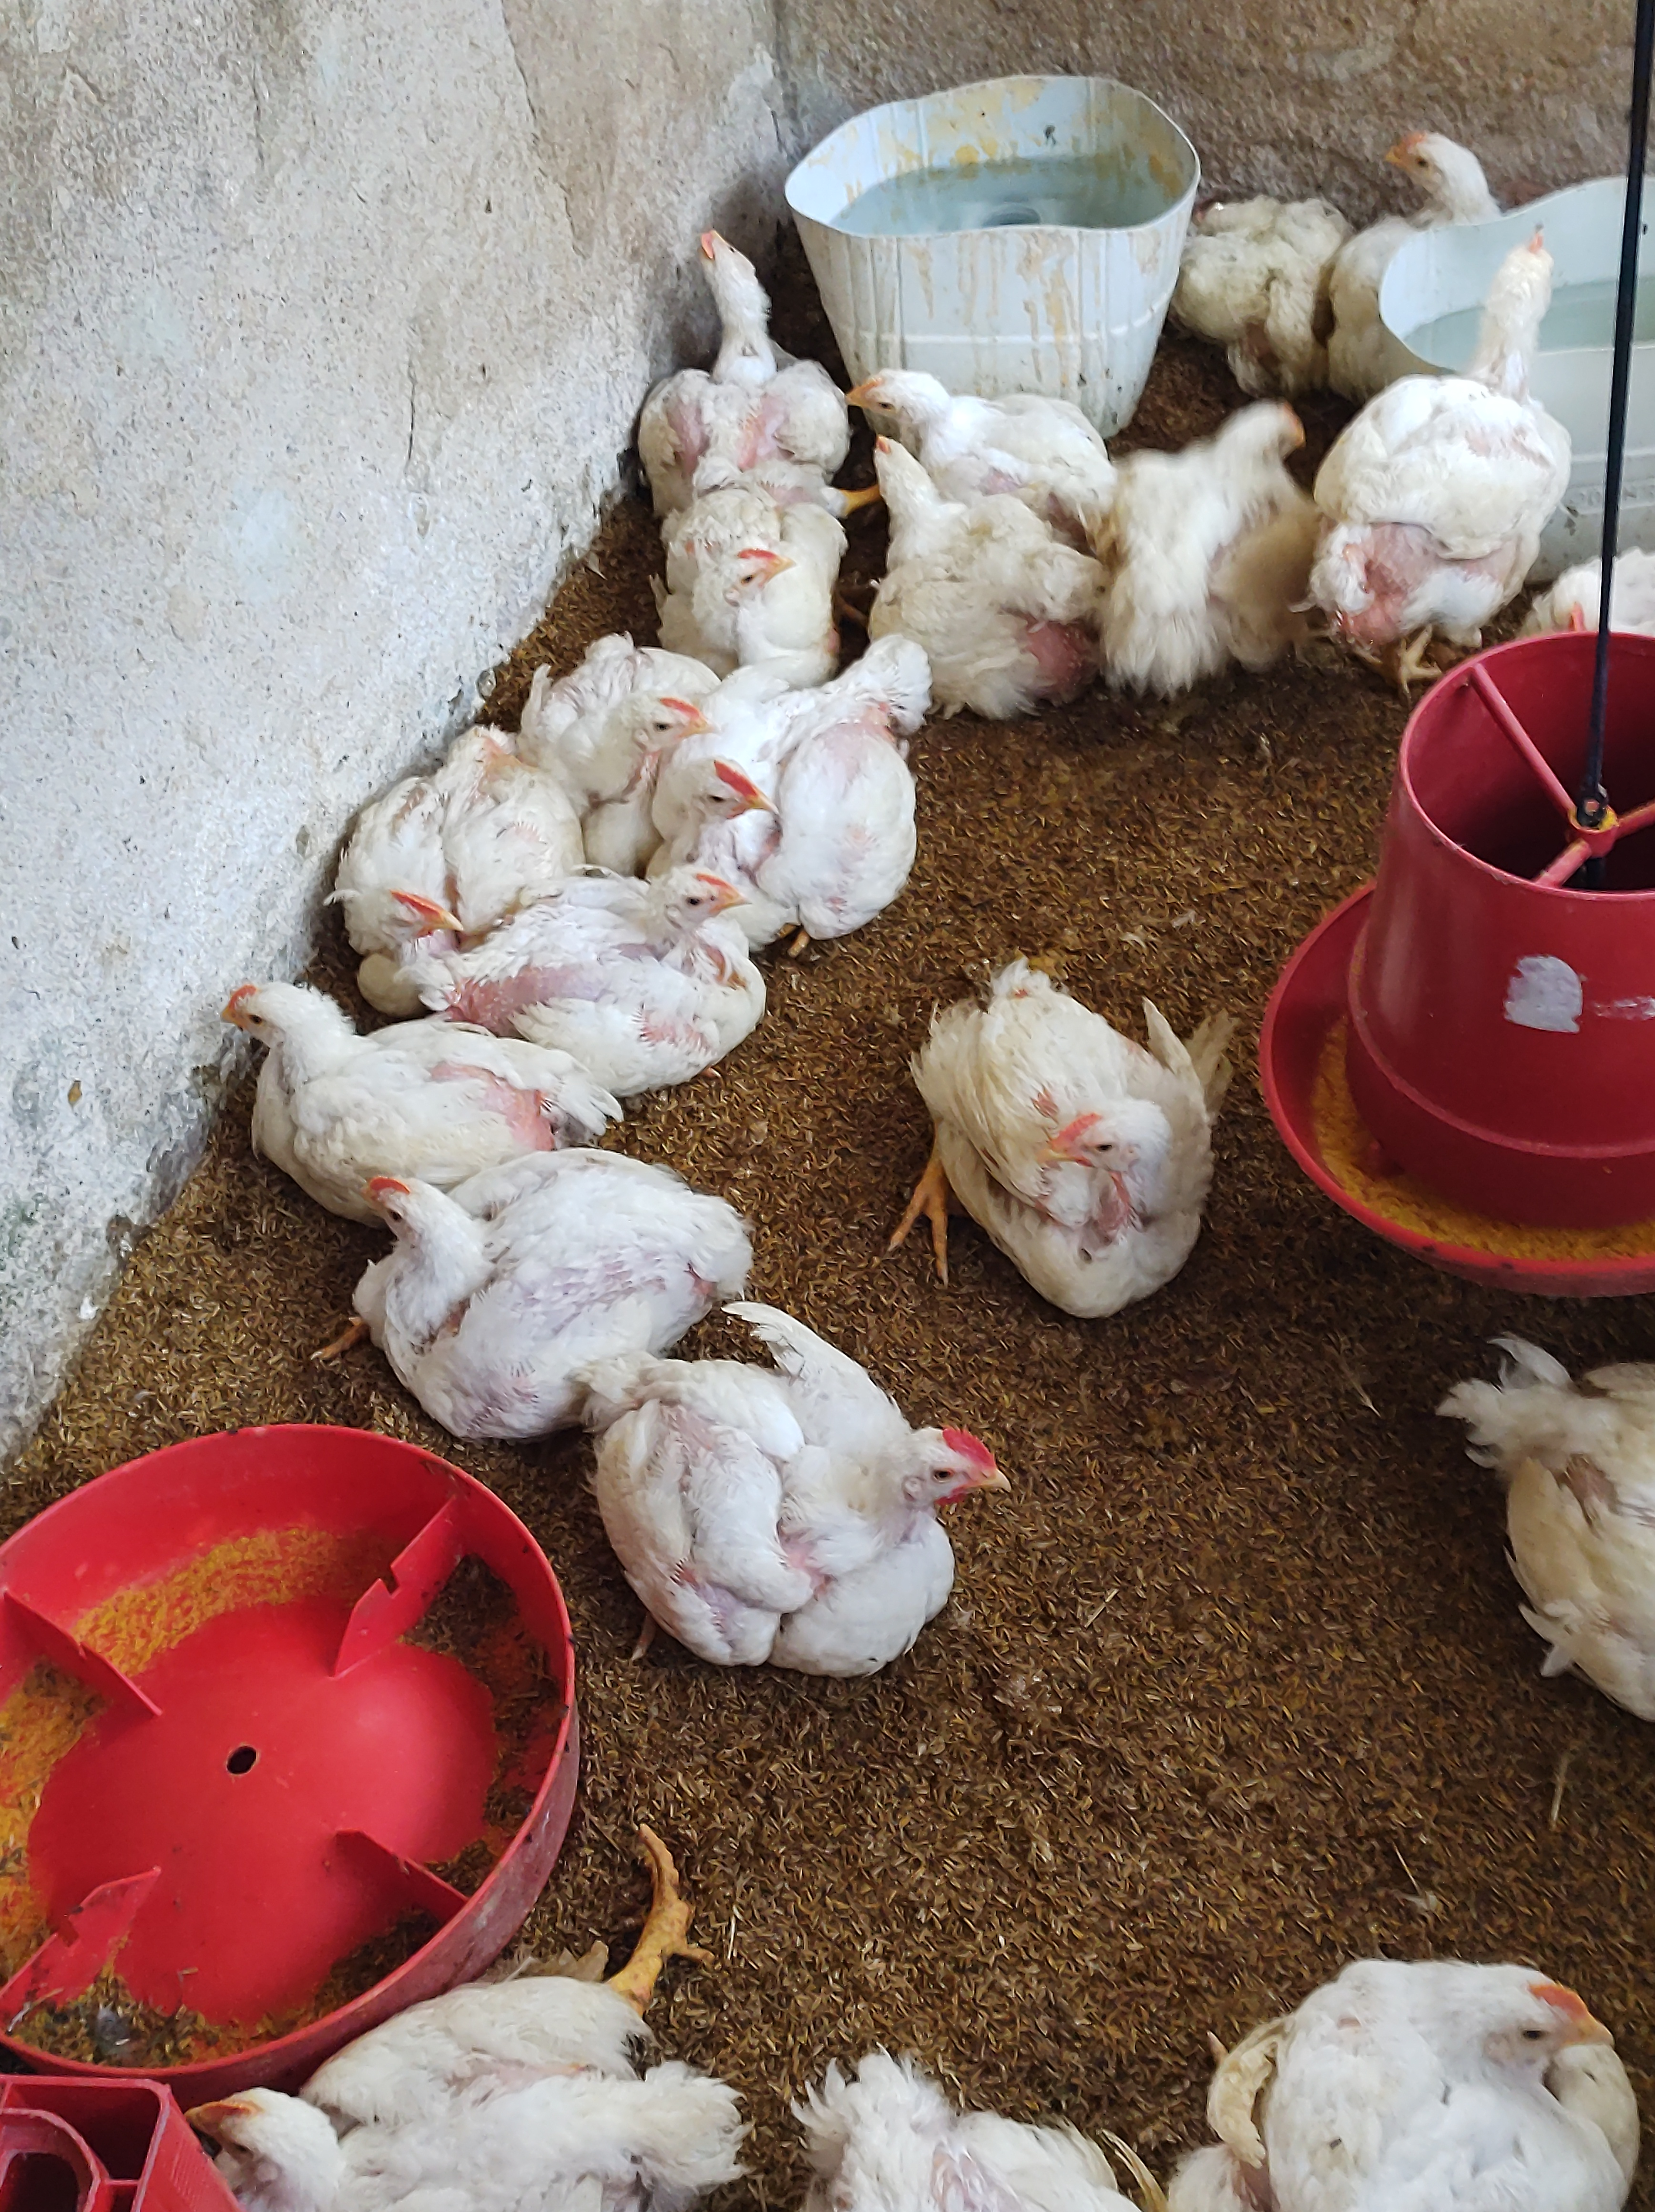Pollos: (148, 1897, 779, 2212), (614, 1276, 1012, 1737), (909, 946, 1245, 1339), (1318, 233, 1599, 694), (353, 1120, 754, 1416), (1274, 1906, 1655, 2212), (177, 941, 605, 1203), (1462, 1315, 1655, 1732), (861, 417, 1080, 762), (445, 859, 770, 1068), (643, 703, 954, 916), (1128, 407, 1372, 670), (289, 723, 570, 941), (614, 190, 841, 456), (808, 2028, 1137, 2212), (1095, 150, 1342, 358), (852, 310, 1166, 466), (522, 596, 716, 767), (1375, 130, 1502, 243), (706, 529, 812, 645)
